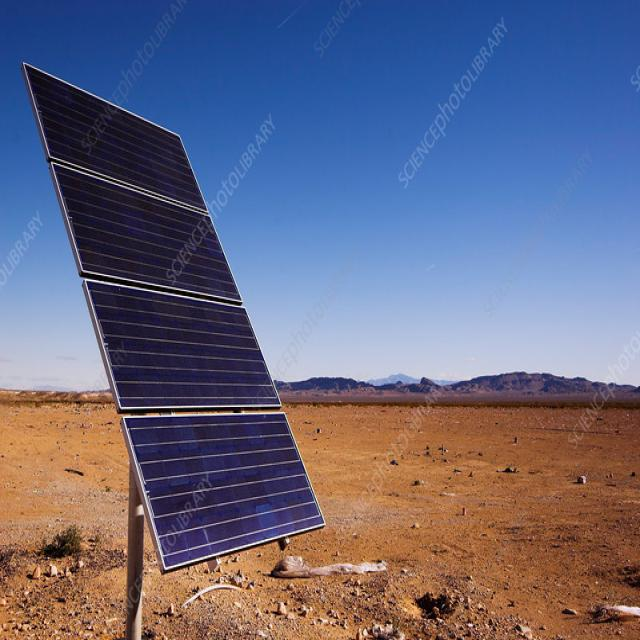clean-solar-panel: (23, 64, 325, 640)
